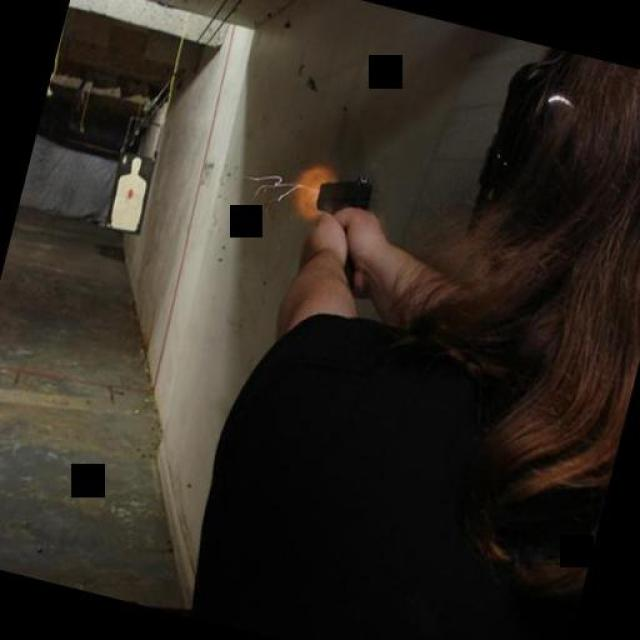gun: (295, 165, 381, 287)
